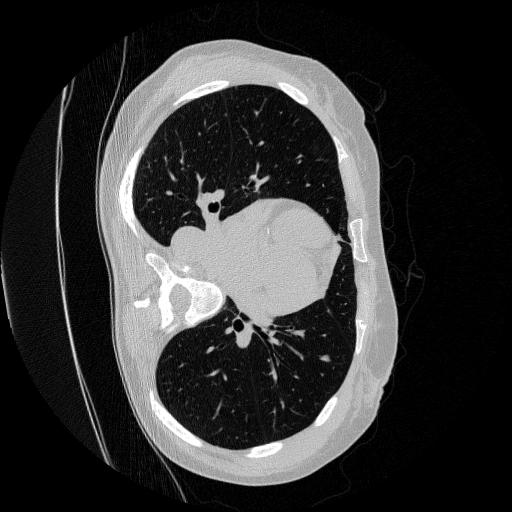nodule: (319, 353, 333, 367)
